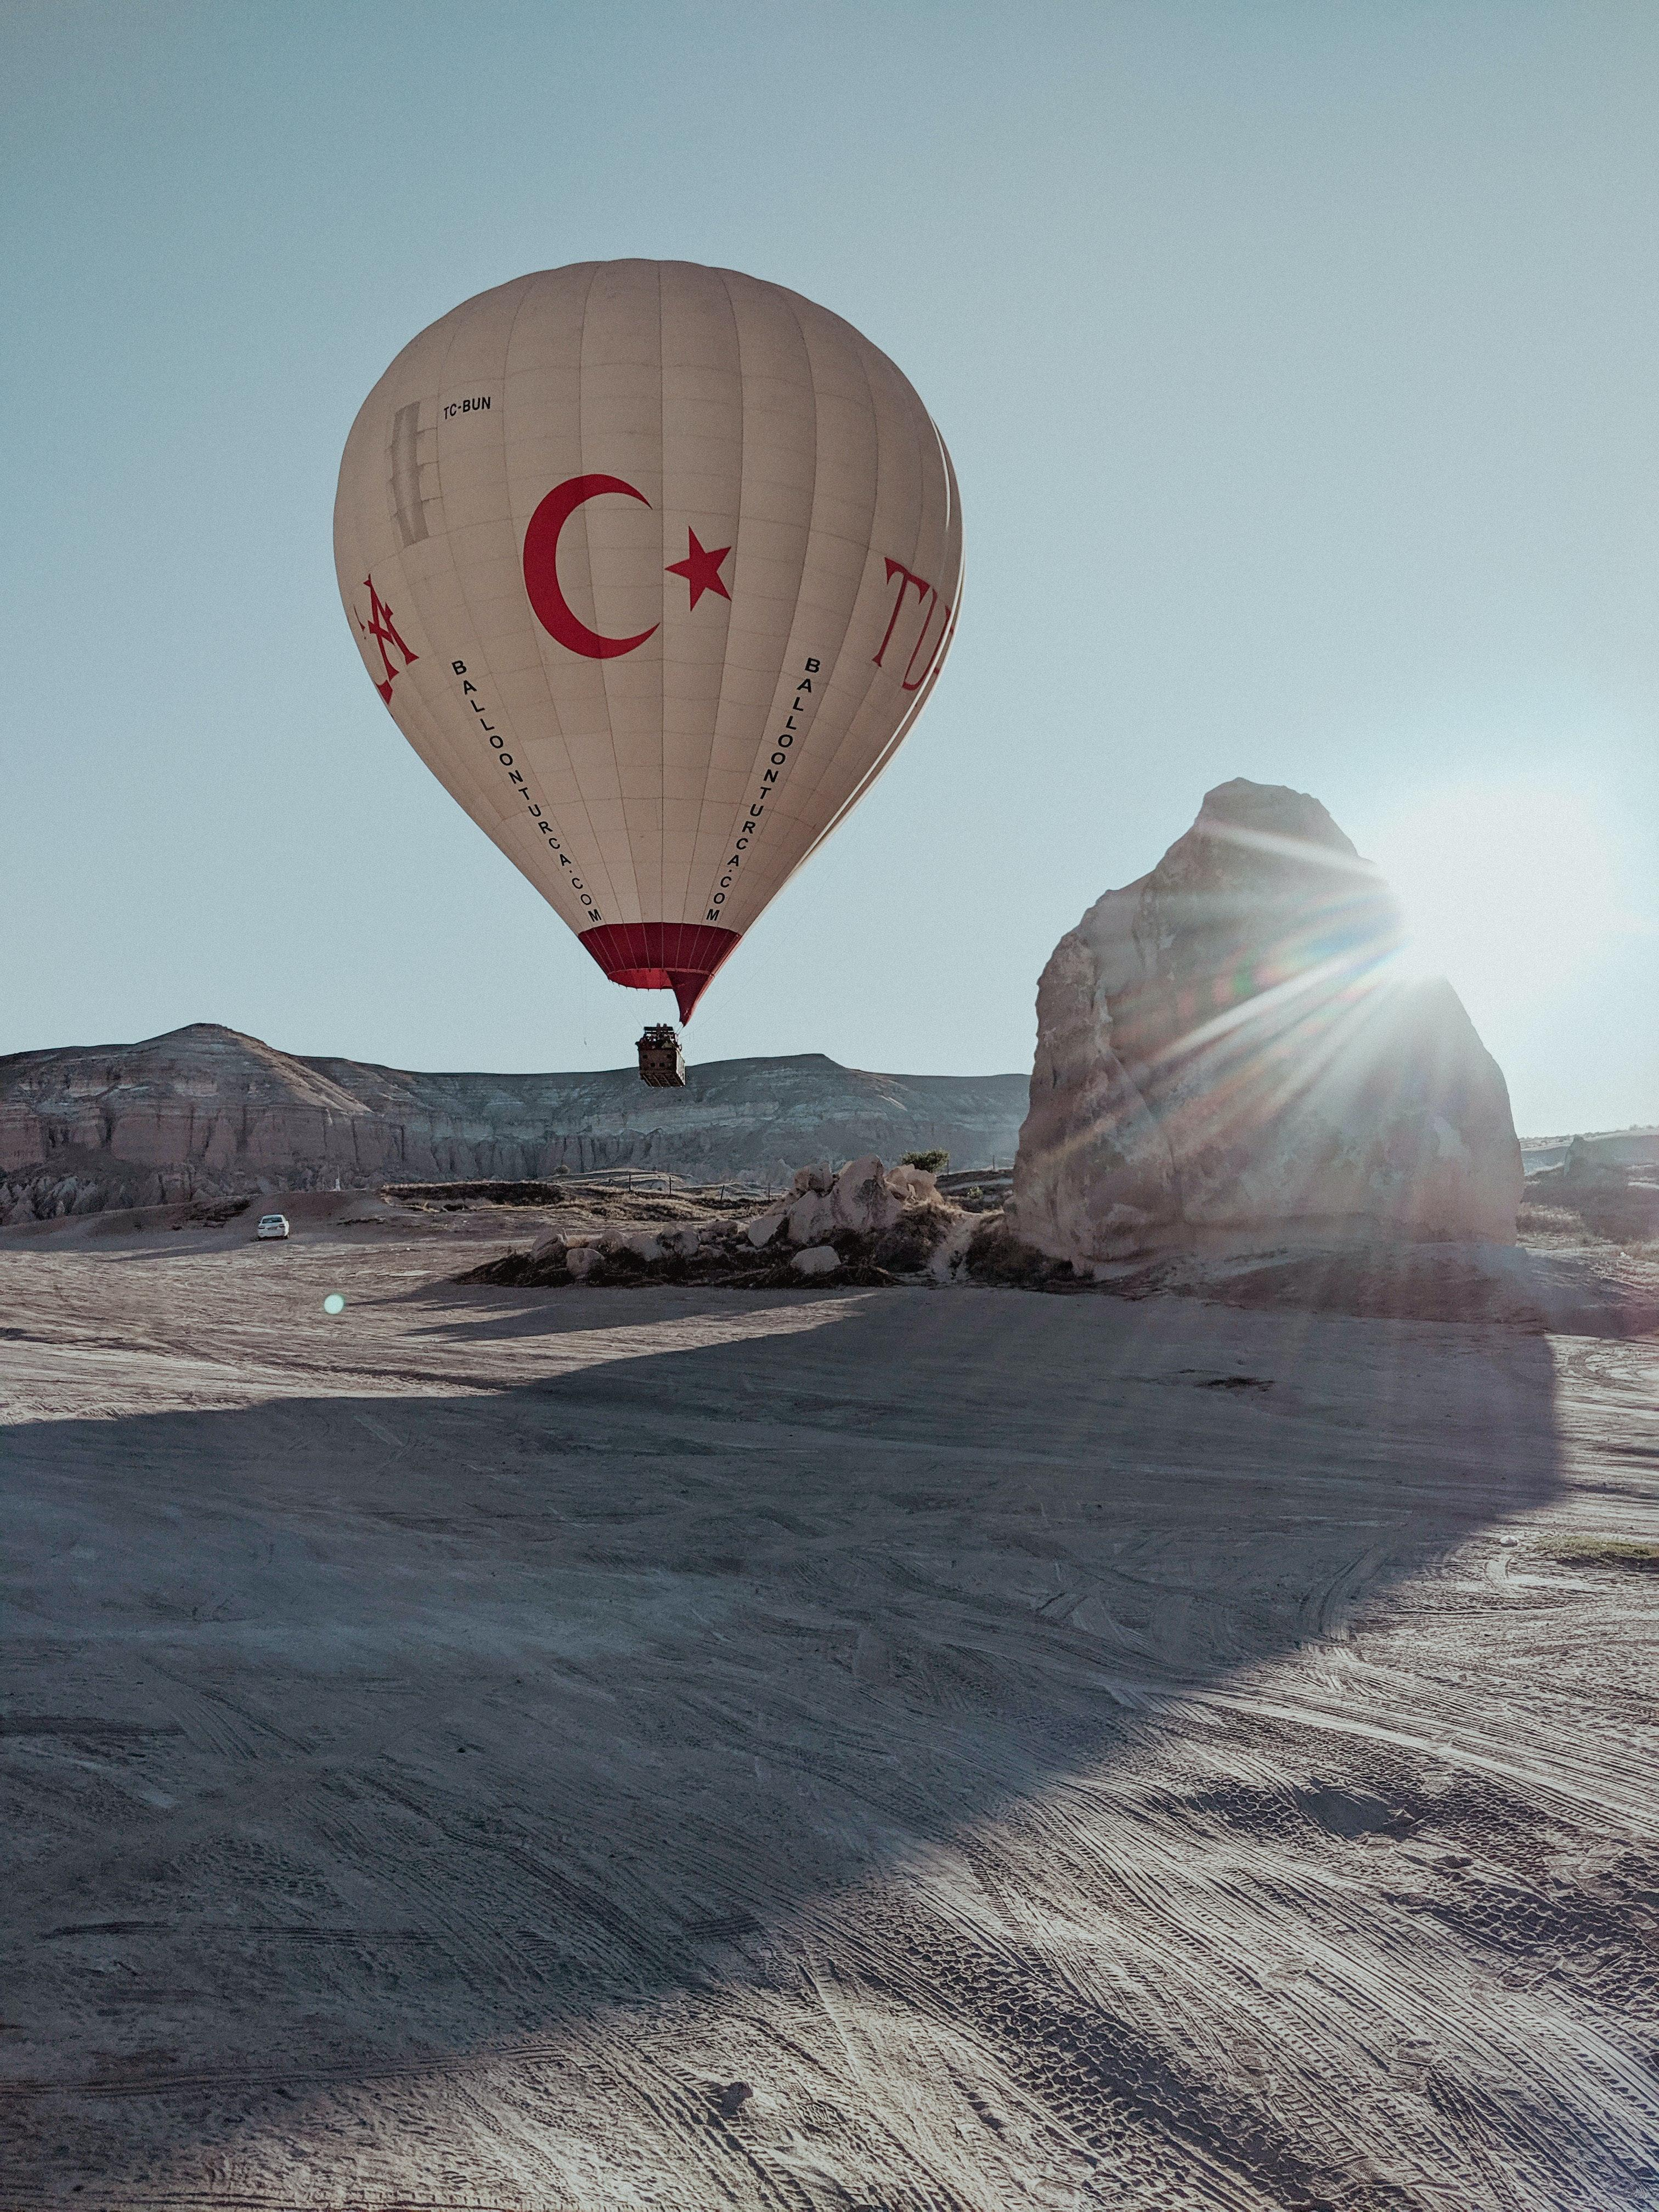hot air ballon: (329, 256, 972, 1094)
